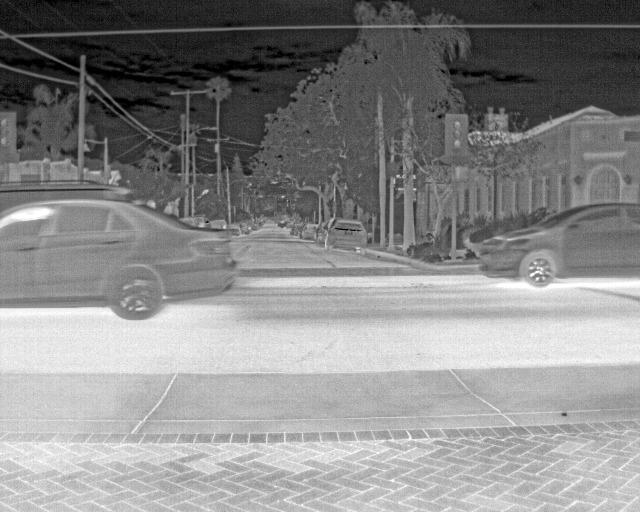car: (0, 198, 240, 321), (478, 203, 639, 288), (0, 181, 136, 201), (328, 219, 368, 254), (181, 216, 209, 229), (316, 221, 331, 245), (302, 222, 318, 240), (289, 221, 307, 234), (210, 218, 229, 230), (241, 221, 253, 233), (276, 219, 289, 228)
